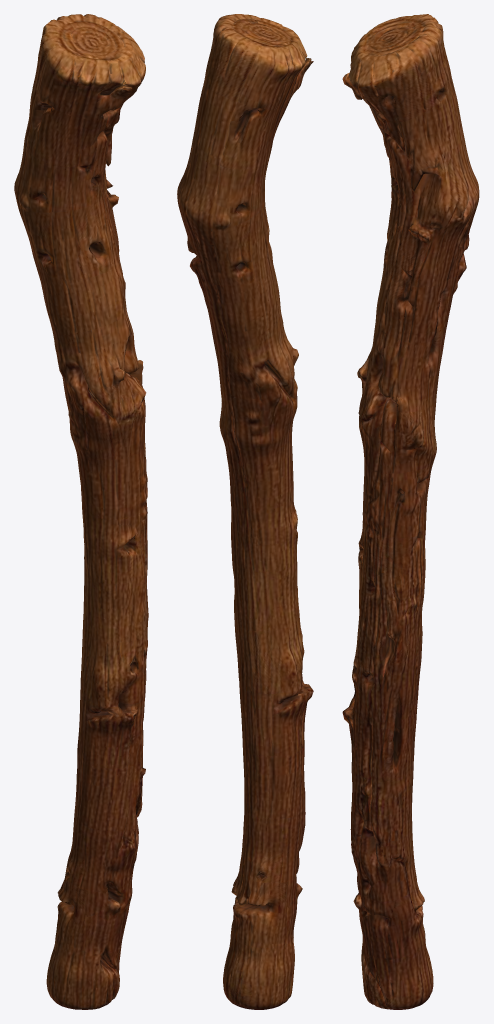
Rendered from david_staff_game.glb.
The picture shows the model from 3 angles, left to right: view 1: azimuth 90°, elevation 25°; view 2: azimuth 150°, elevation 25°; view 3: azimuth 330°, elevation 25°; orthographic projection.
Visible parts, largest first — view 1: tripo_node_2578806f-533b-44eb-9e3c-0aee0b1a262f; view 2: tripo_node_2578806f-533b-44eb-9e3c-0aee0b1a262f; view 3: tripo_node_2578806f-533b-44eb-9e3c-0aee0b1a262f.
Boxes of the visible parts, x1=… form: tripo_node_2578806f-533b-44eb-9e3c-0aee0b1a262f: x1=14, y1=14, x2=148, y2=1009; tripo_node_2578806f-533b-44eb-9e3c-0aee0b1a262f: x1=177, y1=14, x2=313, y2=1009; tripo_node_2578806f-533b-44eb-9e3c-0aee0b1a262f: x1=342, y1=14, x2=479, y2=1009.
Size of the model in its own units: 0.1147 by 0.9798 by 0.1228.
Materials: 1 (1 with a texture image).
